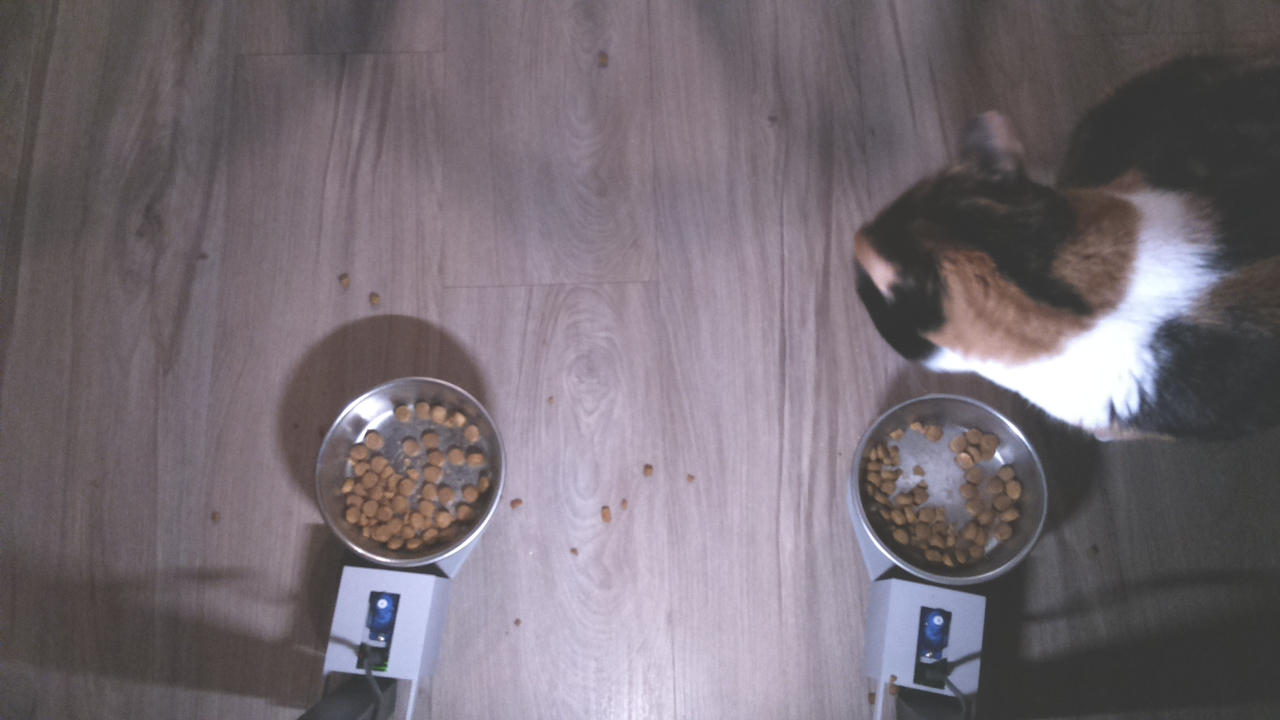bella: (830, 105, 1132, 425)
open_bowl: (848, 390, 1054, 590), (311, 373, 512, 575)
